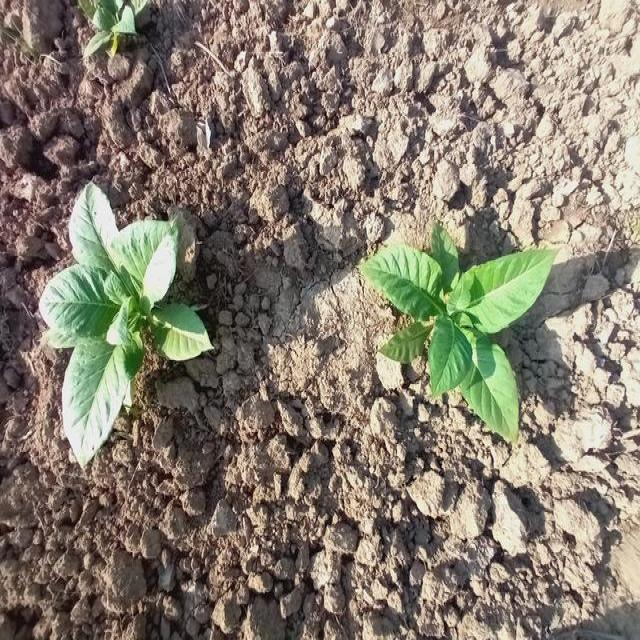crop: (359, 246, 543, 445), (63, 200, 201, 460)
